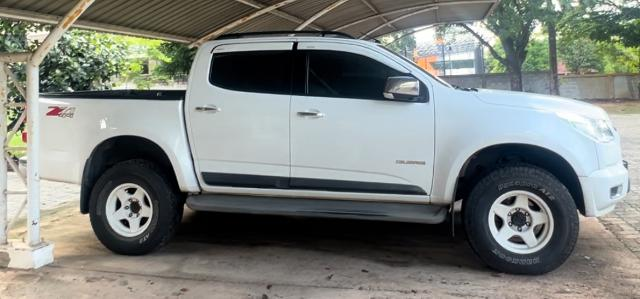pickup-truck: (17, 27, 633, 275)
